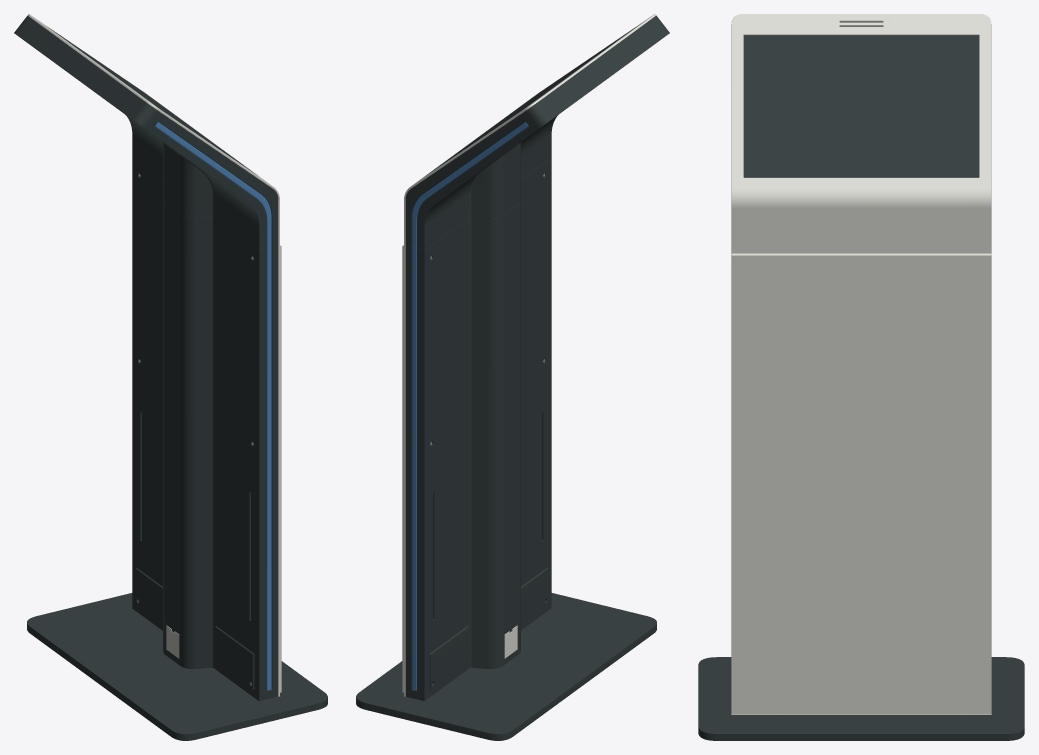
Rendered from digitalSystem_touchTerminal_standing_a01.glb.
The picture shows the model from 3 angles, left to right: view 1: azimuth 30°, elevation 25°; view 2: azimuth 150°, elevation 25°; view 3: azimuth 270°, elevation 25°; orthographic projection. The views are drawn at different scales.
Size of the model in its own units: 0.3642 by 1.22 by 0.5587.
